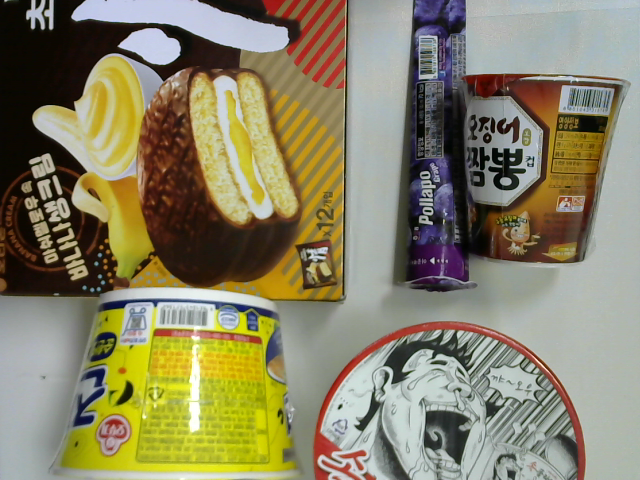Choco_Pie_Banana: (1, 1, 366, 310)
Hejangpul: (306, 317, 594, 480)
Jinlamyeon_Hot_Taste_Large_Cup: (57, 289, 310, 480)
Ojjam: (448, 65, 634, 275)
Polapo_Grape: (388, 1, 480, 302)
